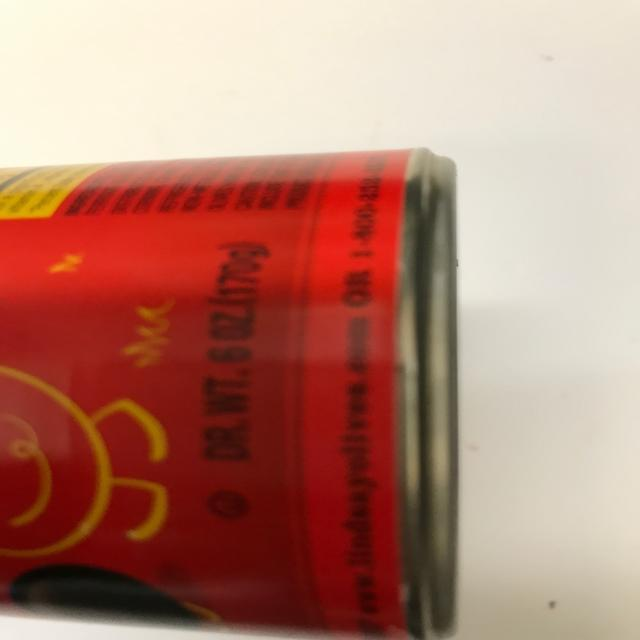metal: (1, 145, 460, 640)
